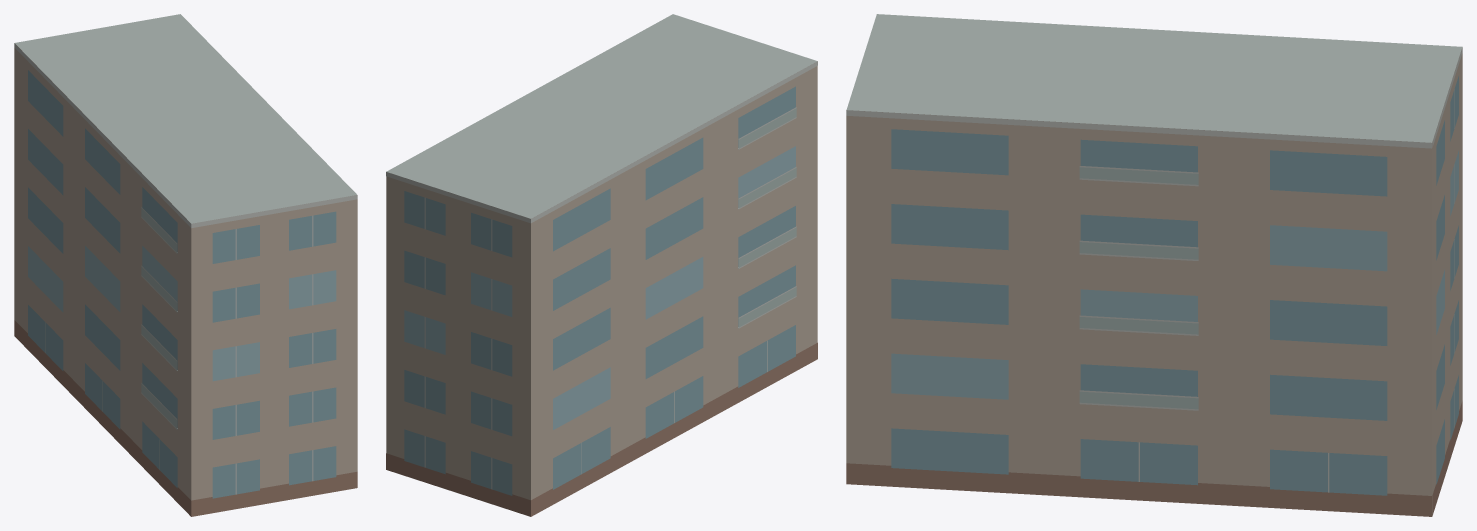
Rendered from survey-upis-32752827.glb.
3 renders of one model, left to right at view 1: azimuth 30°, elevation 25°; view 2: azimuth 150°, elevation 25°; view 3: azimuth 270°, elevation 25°, orthographic. The views are drawn at different scales.
Visible parts, largest first — view 1: survey-upis-32752827.tmp; view 2: survey-upis-32752827.tmp; view 3: survey-upis-32752827.tmp.
Part boxes in pixels (<box>): survey-upis-32752827.tmp: <box>14,14,357,516</box>; survey-upis-32752827.tmp: <box>386,14,817,516</box>; survey-upis-32752827.tmp: <box>846,14,1462,516</box>.
Bounding box in the file's own units: 11.83 × 16 × 23.89.
